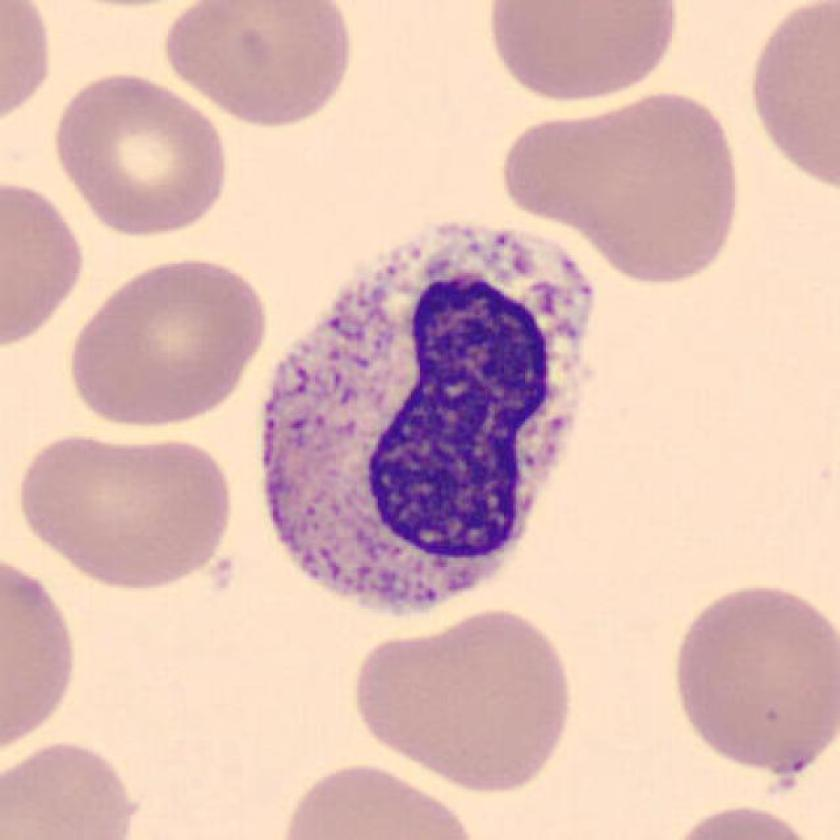neutrophil: (265, 226, 594, 613)
